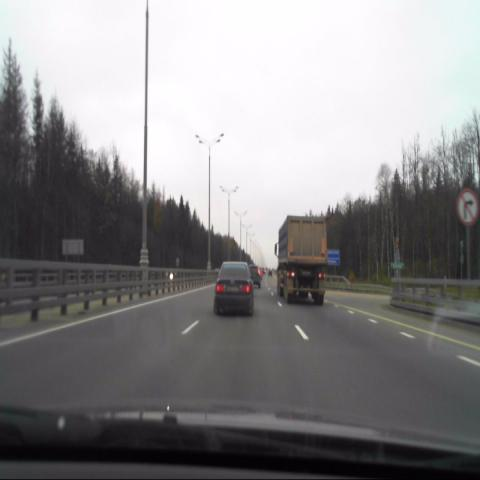3_18: (458, 189, 478, 227)
